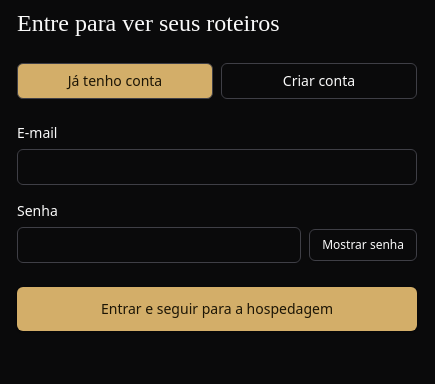
LoginScreen (T-LOGIN, V2-L7-T05, RF-17.7) › falha de login mostra erro genérico, sem revelar se o e-mail existe
Type "ana@example.com" into the field labelled "E-mail". click: x=217, y=167
box: [17, 149, 417, 185]
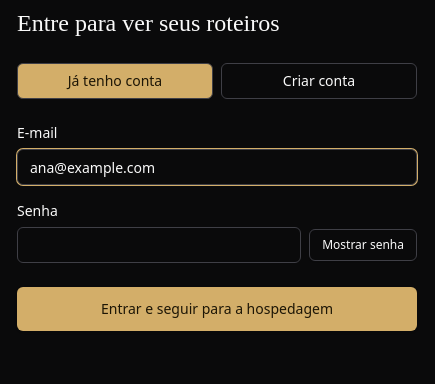
Type "senhaerrada" into the password field labelled "Senha". click: x=159, y=245
box: [17, 227, 301, 263]
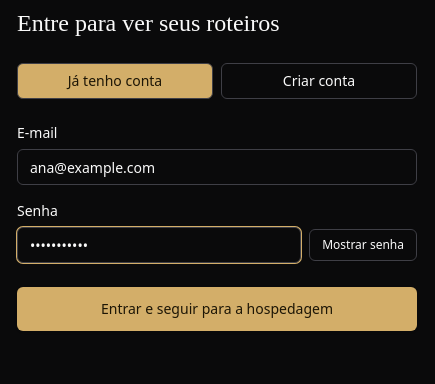
Click the button "Entrar e seguir para a hospedagem". click: x=217, y=309
box: [17, 287, 417, 331]
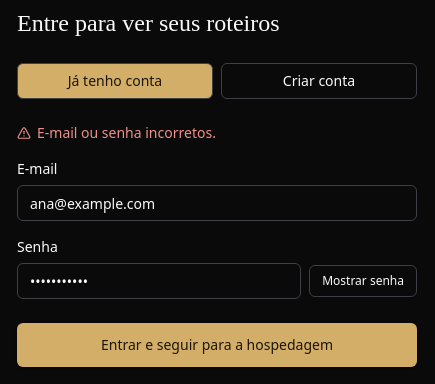
Now the message reads "E-mail ou senha incorretos.", box [37, 123, 216, 142]
